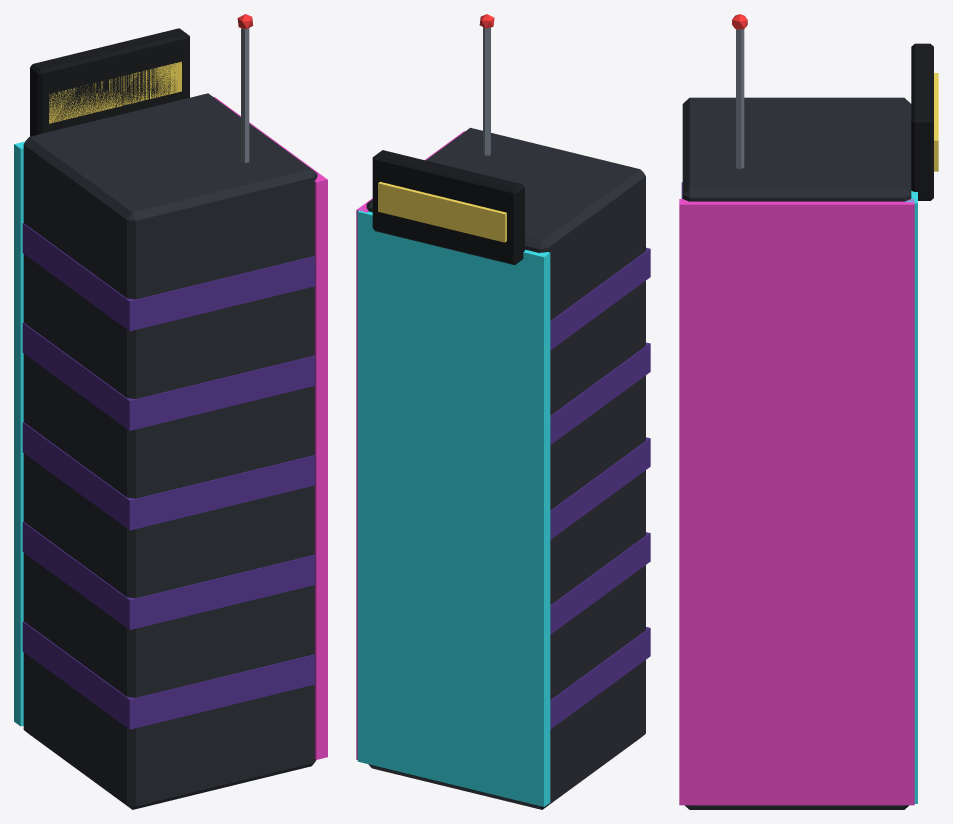
Rendered from neon_tower.glb.
3 views of the same model, side by side, from view 1: azimuth 30°, elevation 25°; view 2: azimuth 150°, elevation 25°; view 3: azimuth 270°, elevation 25° (orthographic). The views are drawn at different scales.
Visible parts, largest first — view 1: neon_tower; view 2: neon_tower; view 3: neon_tower.
Boxes of the visible parts, x1,y1,x2,y2 form: neon_tower: [14, 14, 327, 809]; neon_tower: [356, 14, 650, 809]; neon_tower: [679, 14, 938, 809].
Size of the model in its own units: 2.09 by 7.48 by 2.27.
Materials: 1 (1 with a texture image).
